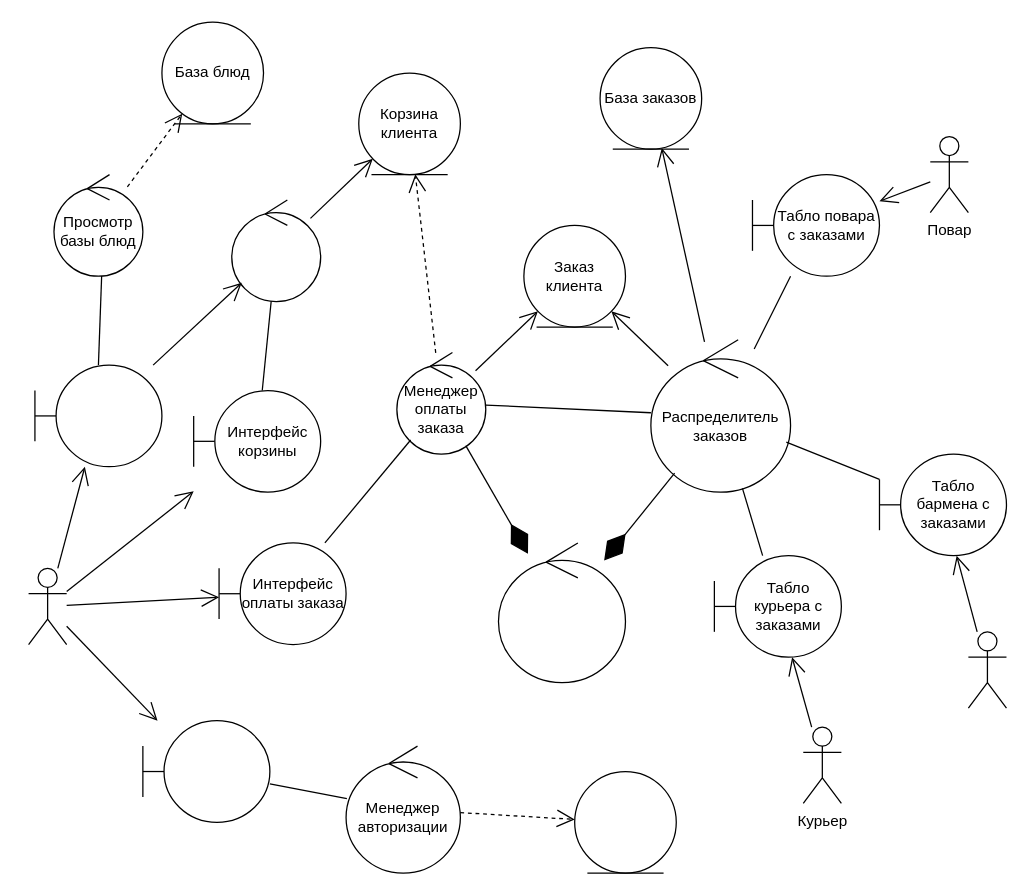
This 1036x895 diagram has some shape labels left out. The shapes that lost their labels are listed below. From the top down, each one's centre as x and y in pixels, then its label:
At (x=276, y=250): "Менеджер корзины".
At (x=98, y=415): "Меню".
At (x=47, y=606): "Клиент".
At (x=561, y=612): "Менеджер заказов".
At (x=986, y=669): "Бармен".
At (x=206, y=770): "Личный кабинет клиента".
At (x=624, y=821): "База клиентов".
